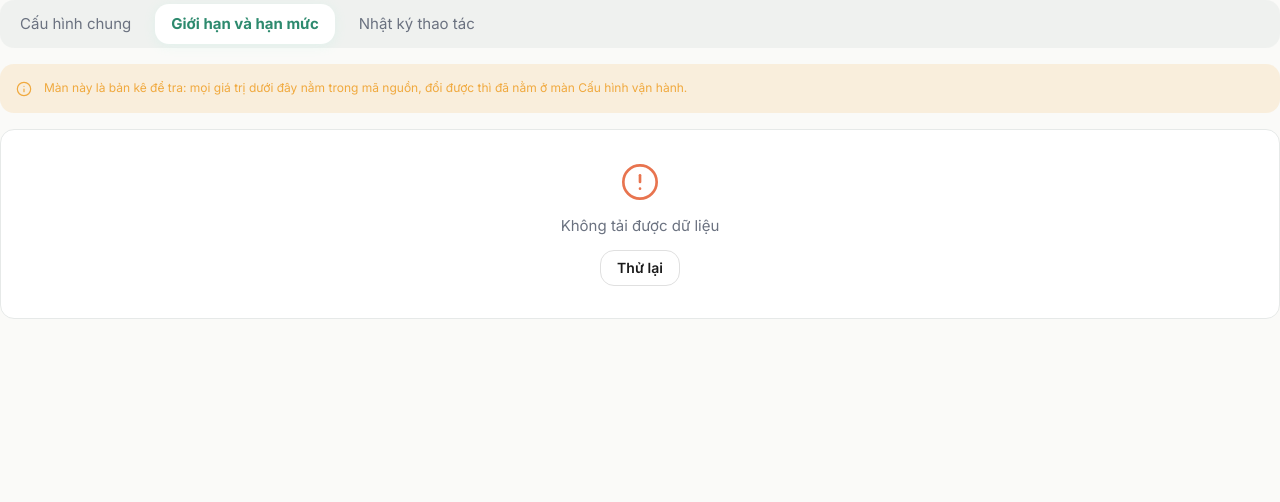
Test: Màn giới hạn và hạn mức › máy chủ lỗi thì hiện nhánh lỗi và bấm thử lại gọi lại đúng lối đó
This screenshot has width=1280, height=502.
Click the button "Thử lại": (640, 268) [600, 250, 680, 286]
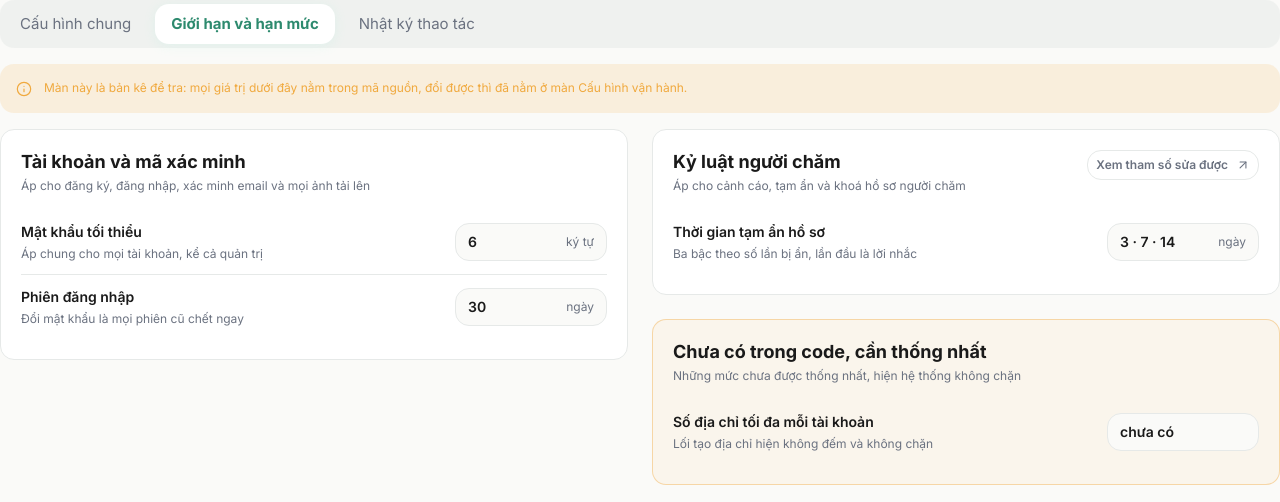
Expected: the text "Mật khẩu tối thiểu" is shown, [21, 223, 142, 240]
